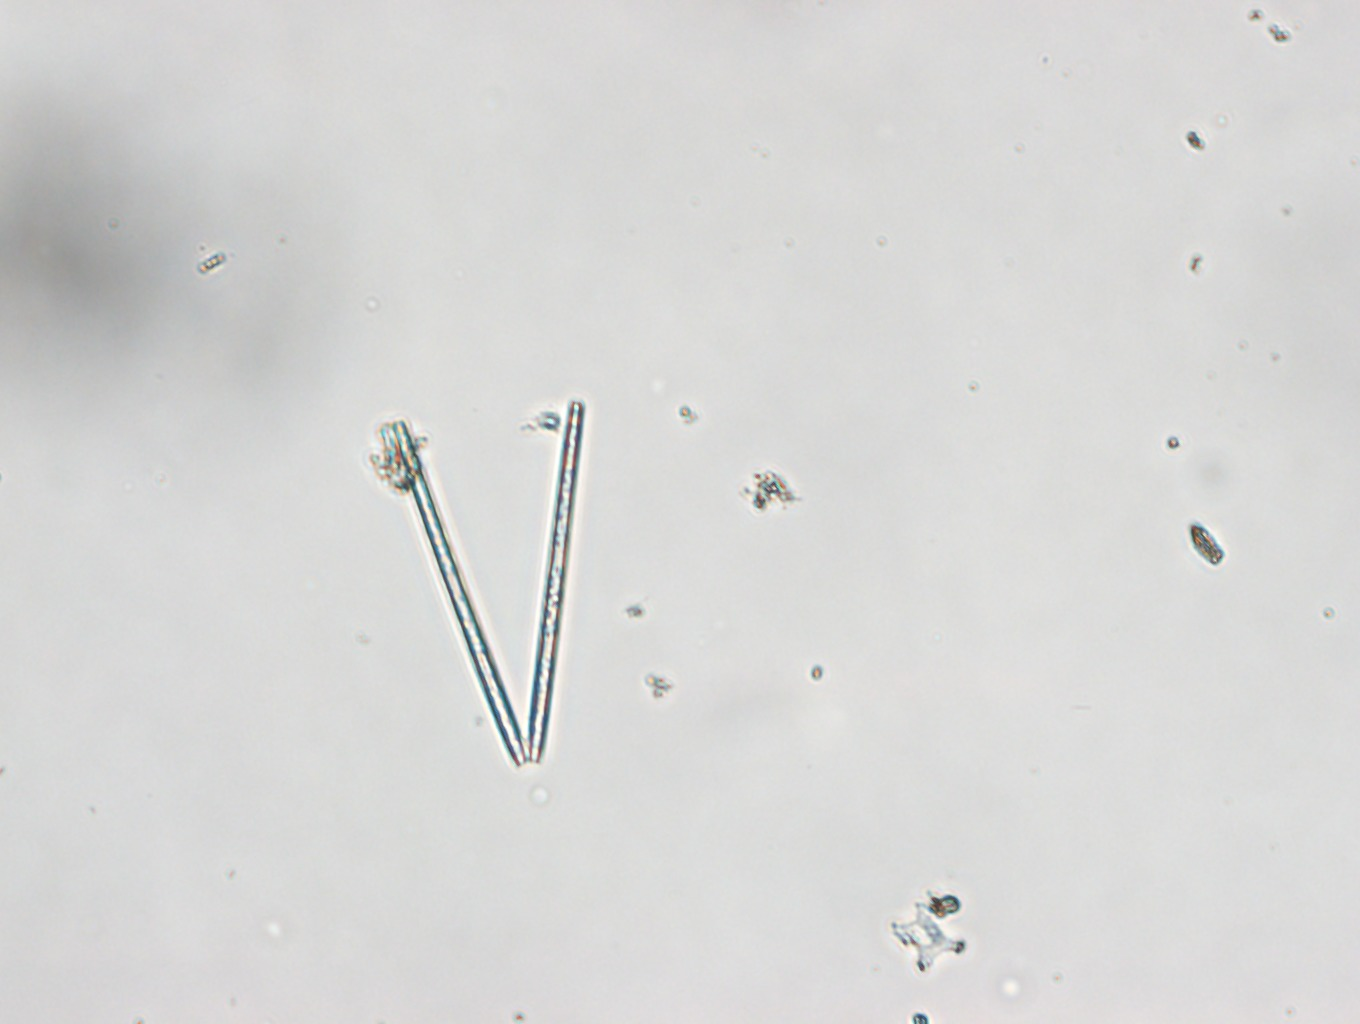thalassionema frauenfeldii: (388, 399, 585, 770)
